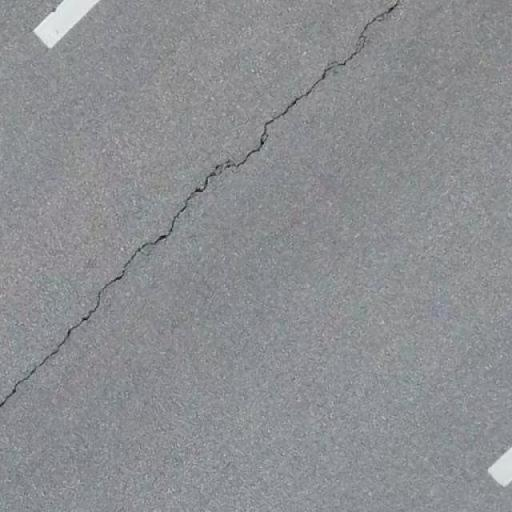severe crack: (146, 18, 380, 232), (0, 221, 178, 406)
